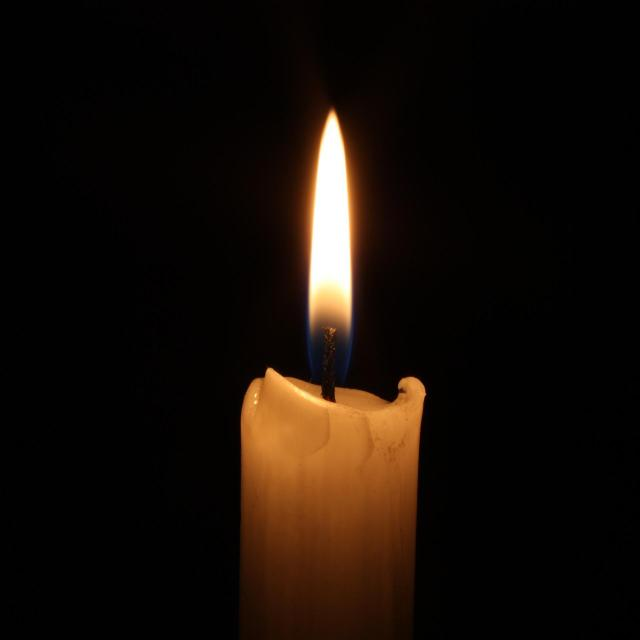Fire_Save: (238, 107, 427, 638), (305, 107, 354, 385)
